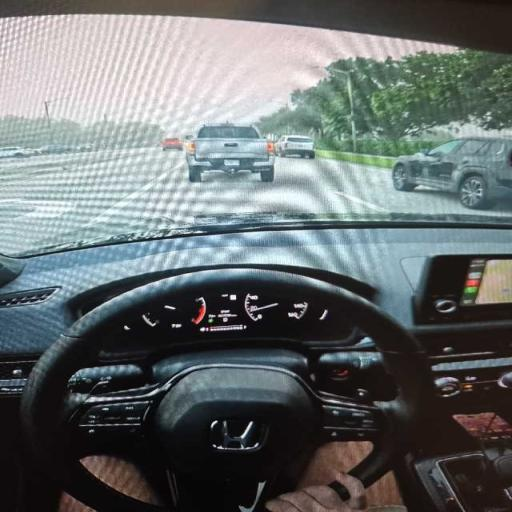car: (0, 0, 511, 511), (392, 138, 511, 209), (276, 136, 315, 158), (0, 147, 34, 157), (39, 145, 75, 154), (161, 138, 183, 151), (75, 145, 94, 152)
lane: (0, 149, 471, 253), (322, 160, 511, 216)
person: (266, 469, 406, 511)
truck: (187, 124, 275, 182)
